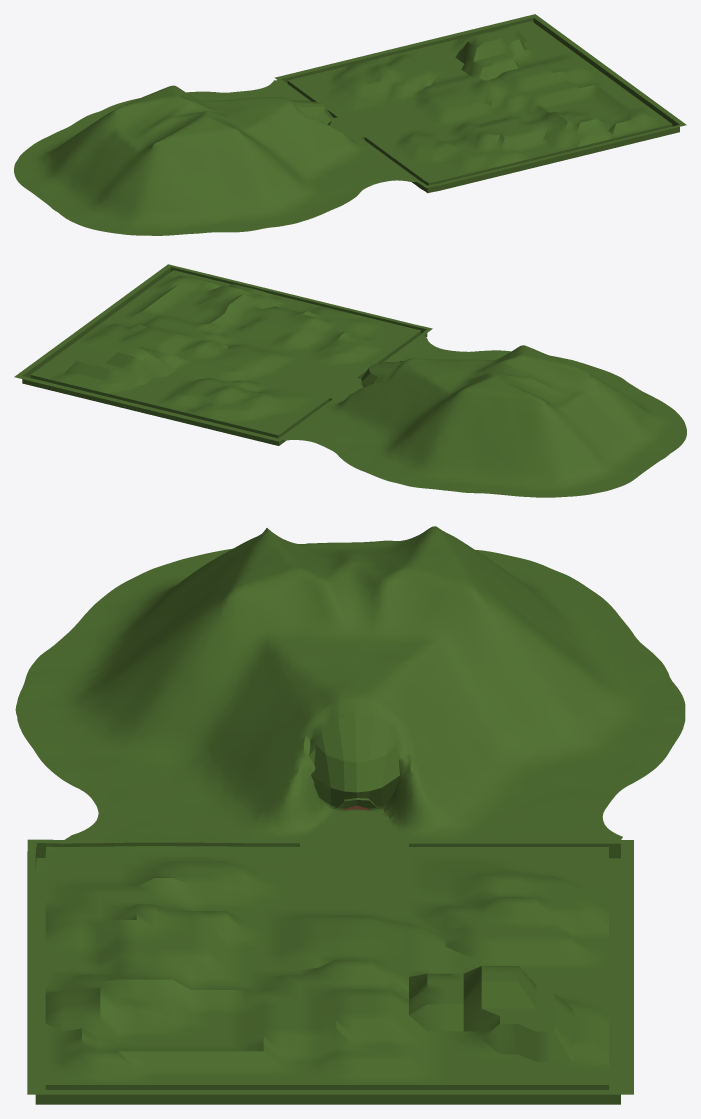
The model's file is escenario_final.glb.
The picture shows the model from 3 angles, top to bottom: view 1: azimuth 30°, elevation 25°; view 2: azimuth 150°, elevation 25°; view 3: azimuth 270°, elevation 25°; orthographic projection. The views are drawn at different scales.
Parts seen in each view (by area): view 1: Plano, Cube.001; view 2: Plano, Cube.001; view 3: Plano, Cube.001.
Part boxes in pixels (bbox=[...]): Plano: bbox=[14, 14, 686, 235]; Cube.001: bbox=[111, 100, 332, 144]; Plano: bbox=[14, 264, 686, 497]; Cube.001: bbox=[360, 361, 545, 404]; Plano: bbox=[15, 526, 685, 1104]; Cube.001: bbox=[227, 528, 400, 810].
Size of the model in its own units: 1484 by 198 by 766.
